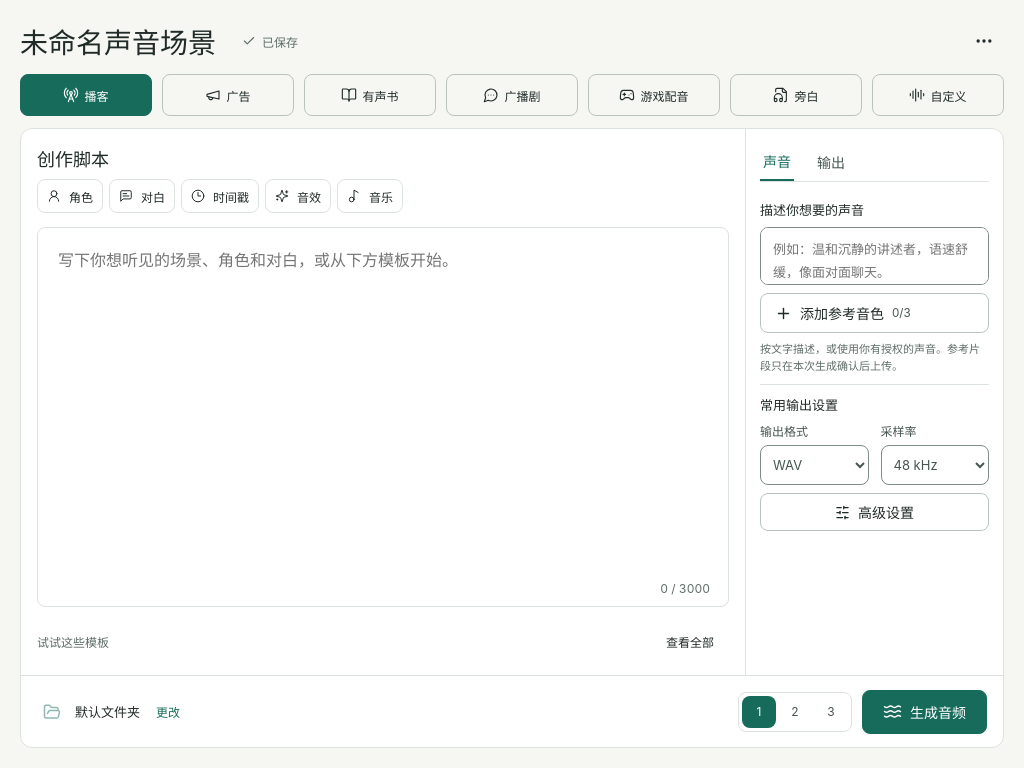
Test: compact creation workflow › requires an explicit cost confirmation for even a text-only generation
Click the button "生成音频": (924, 712) x1=862 y1=690 x2=987 y2=734
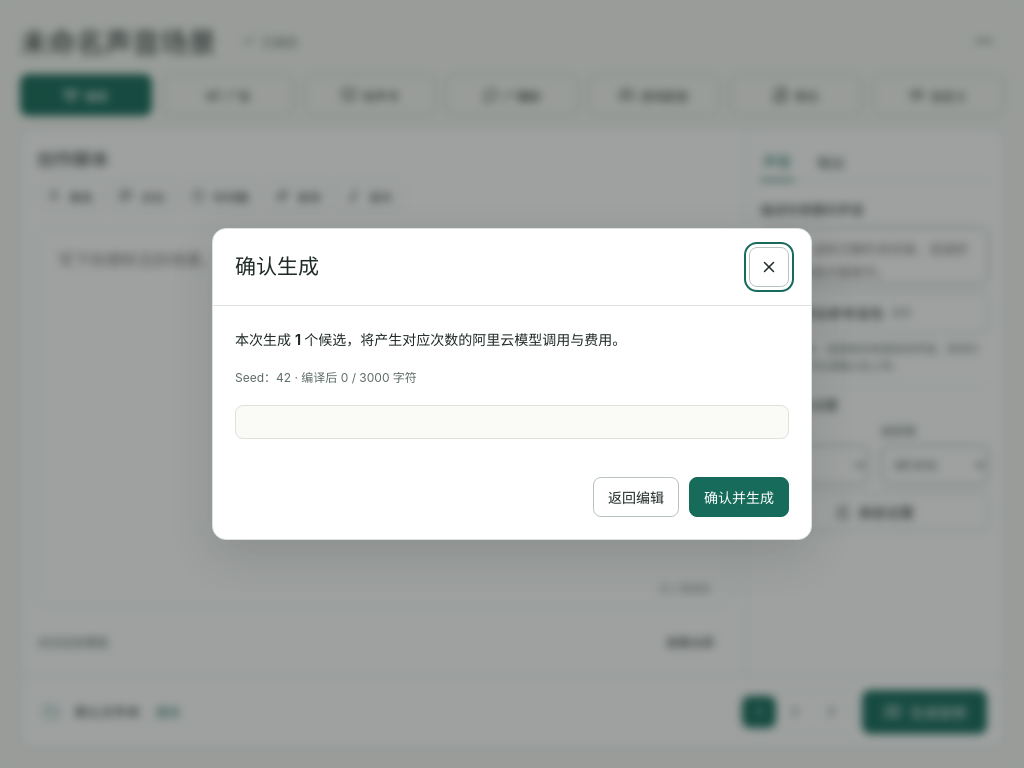
Result: the dialog "确认生成" is shown at x1=212 y1=228 x2=812 y2=540
